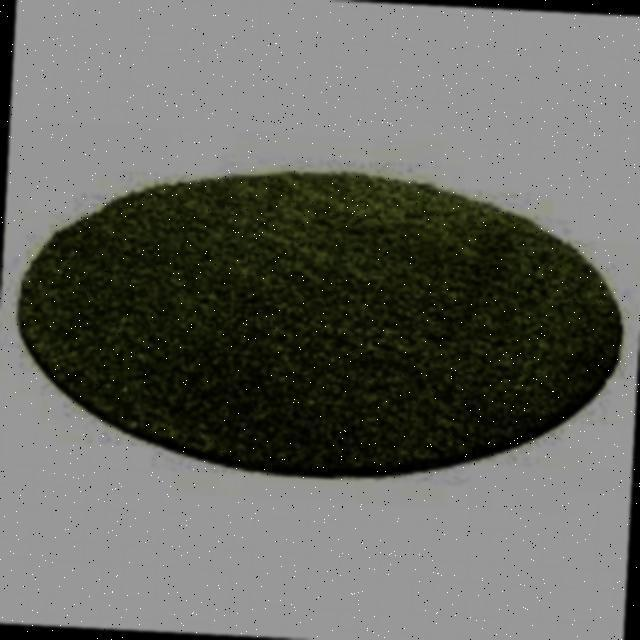Circle: (12, 165, 624, 484)
